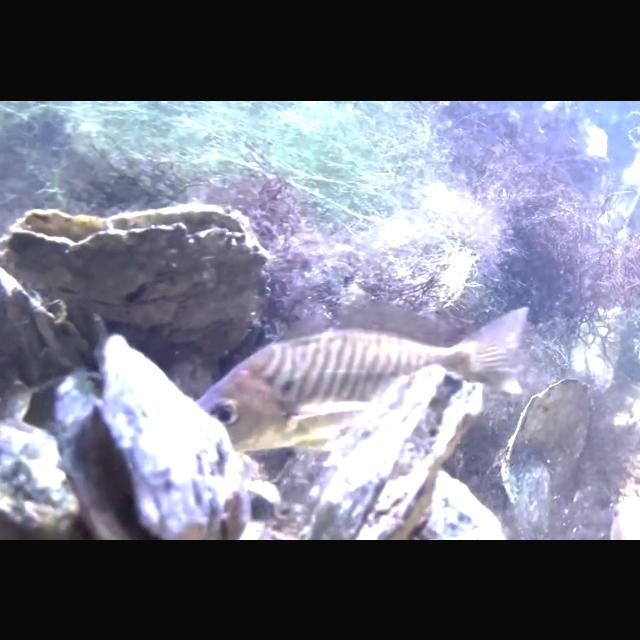Oyster-Closed: (502, 376, 594, 510), (0, 416, 82, 530)
Oyster-Open: (54, 331, 248, 539), (8, 202, 270, 346), (306, 364, 484, 540)
